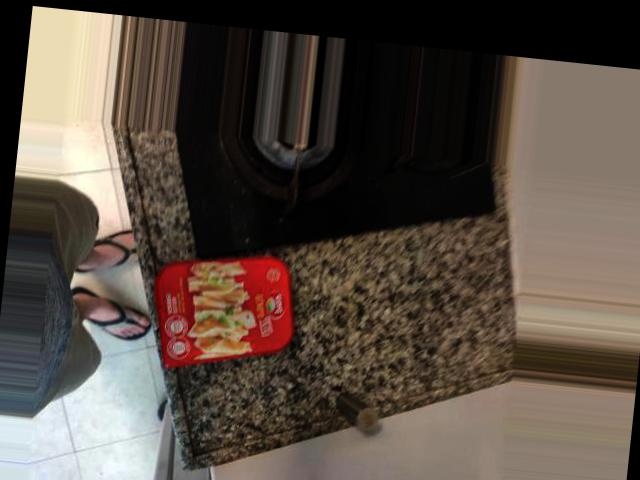cheese: (265, 256, 434, 396)
